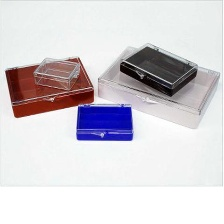plastic_box: (90, 40, 222, 134), (0, 51, 97, 122), (115, 37, 202, 100), (70, 98, 137, 145), (28, 52, 82, 93)
